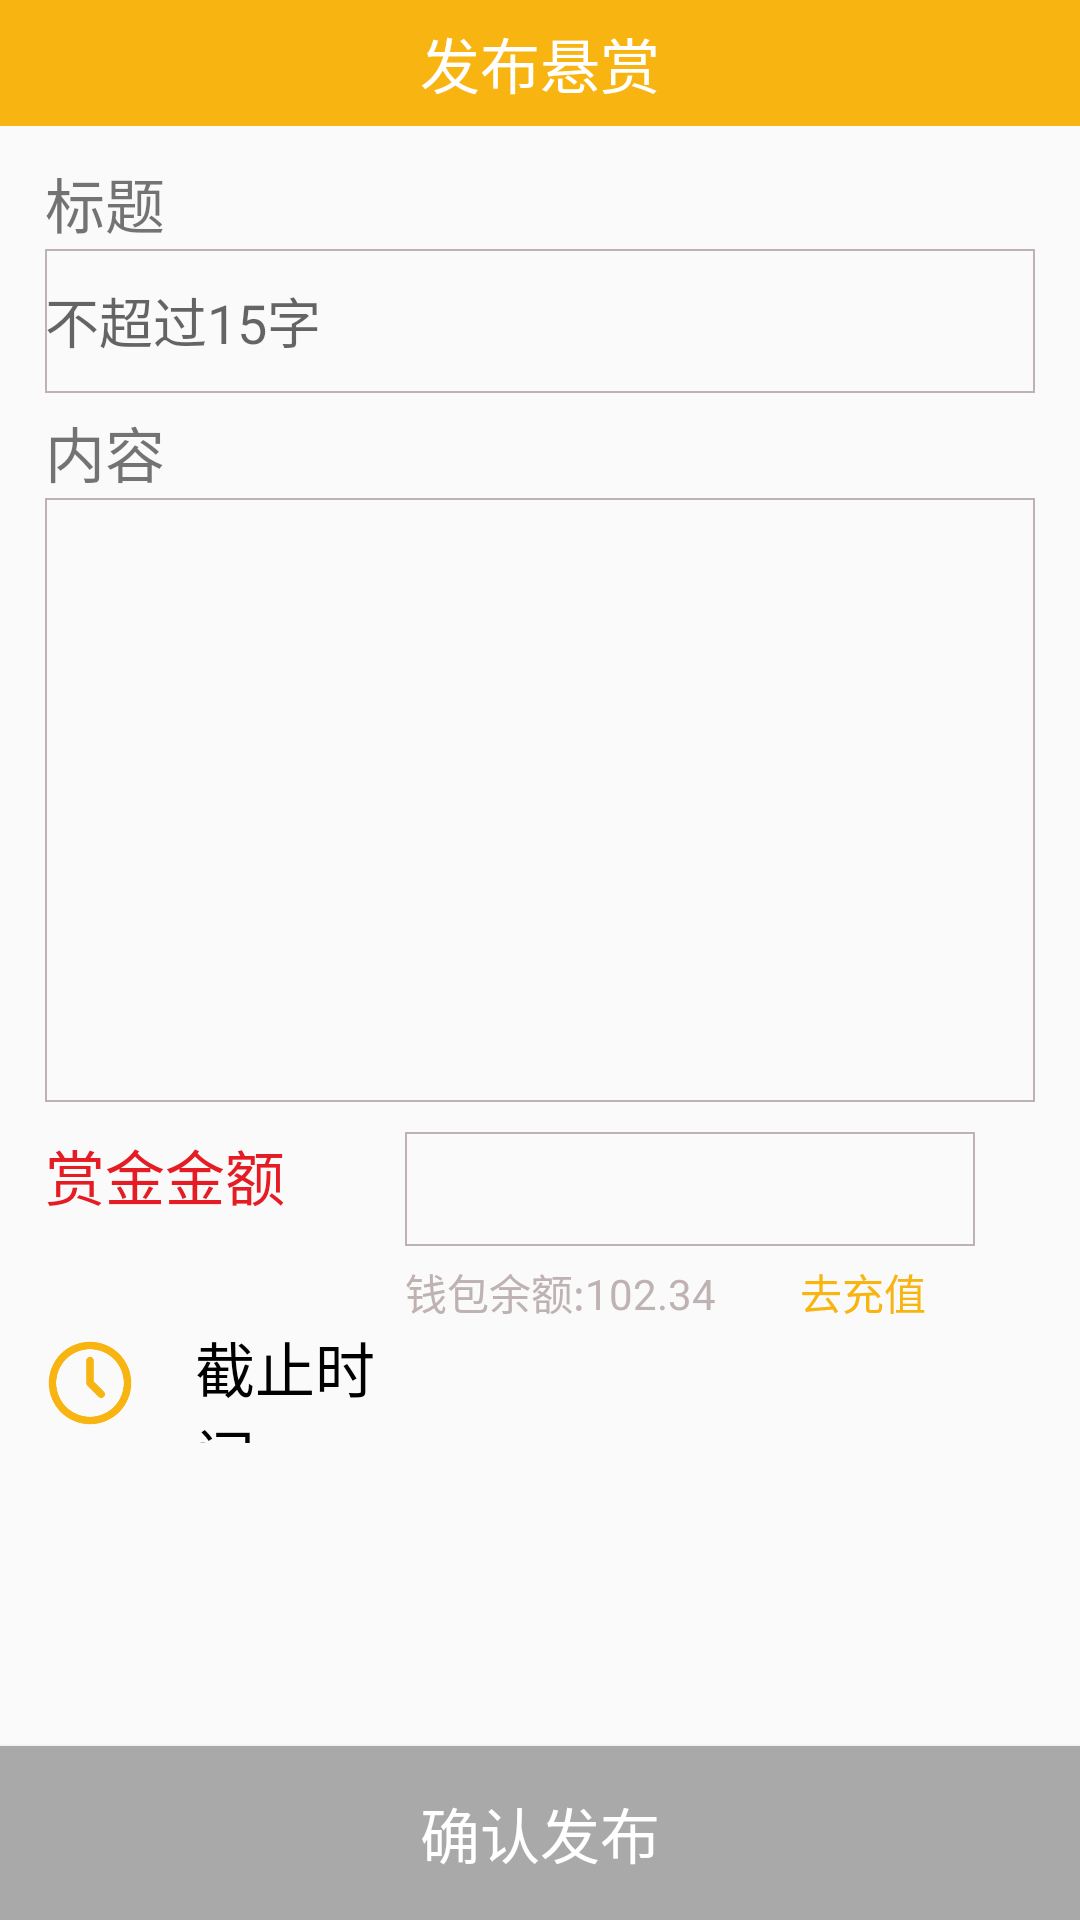

Screen size 1080×1920. Icon name, then its center in pixels as point (x, y):
home publish clock: point (90, 1383)
